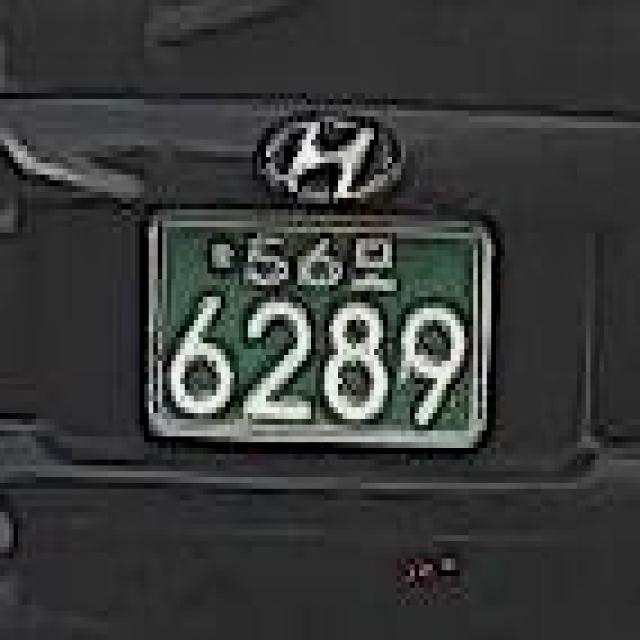illegal_plate: (131, 196, 509, 474)
